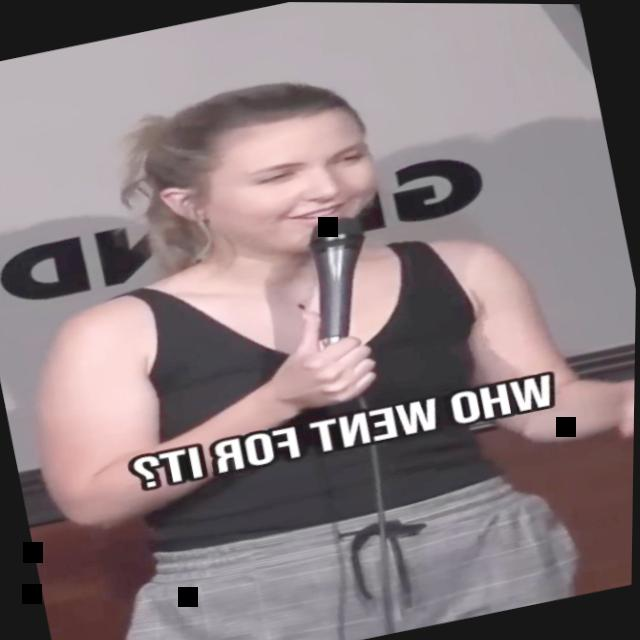NO-Mask: (177, 102, 399, 277)
